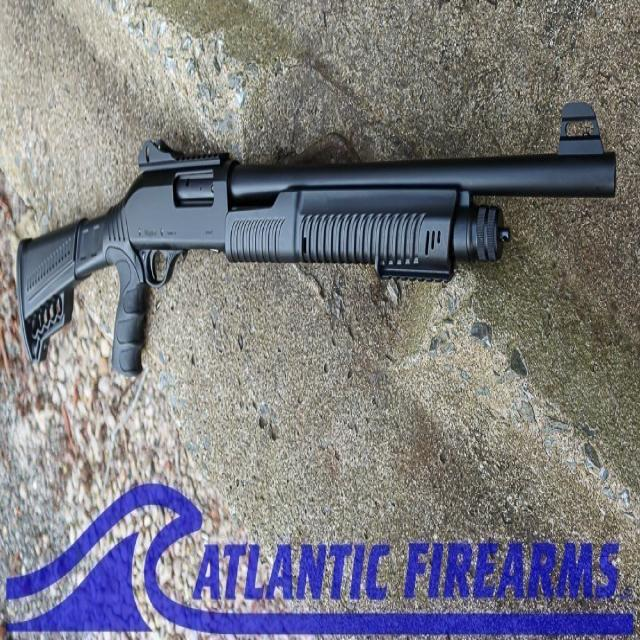ShotGun: (15, 102, 618, 378)
